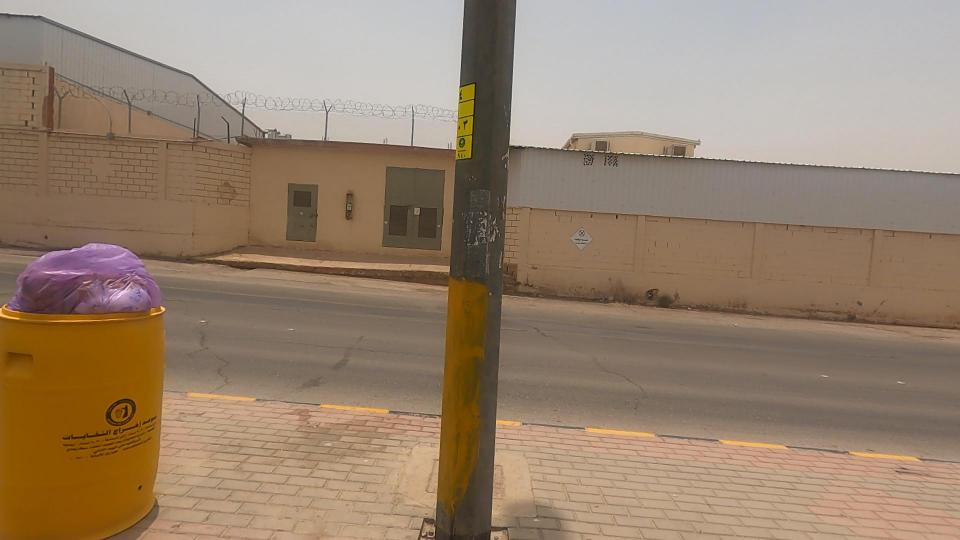GARBAGE: (0, 171, 255, 404)
